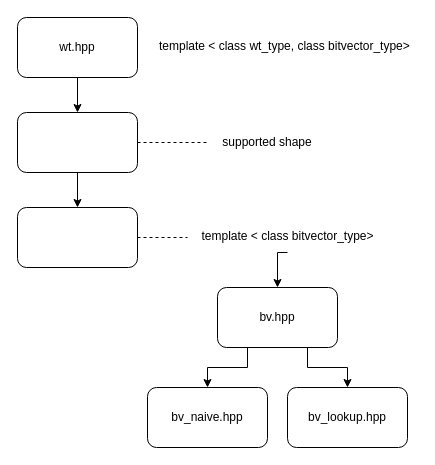
Some shapes in this 435 by 465 pixel diagram are drawn without their labels. The shapes that lost their labels are listed below. From the top down, each one's centre as x and y in pixels, then its label:
At [77,142]: "wt_huff.hpp".
At [77,237]: "wt_node.hpp".
